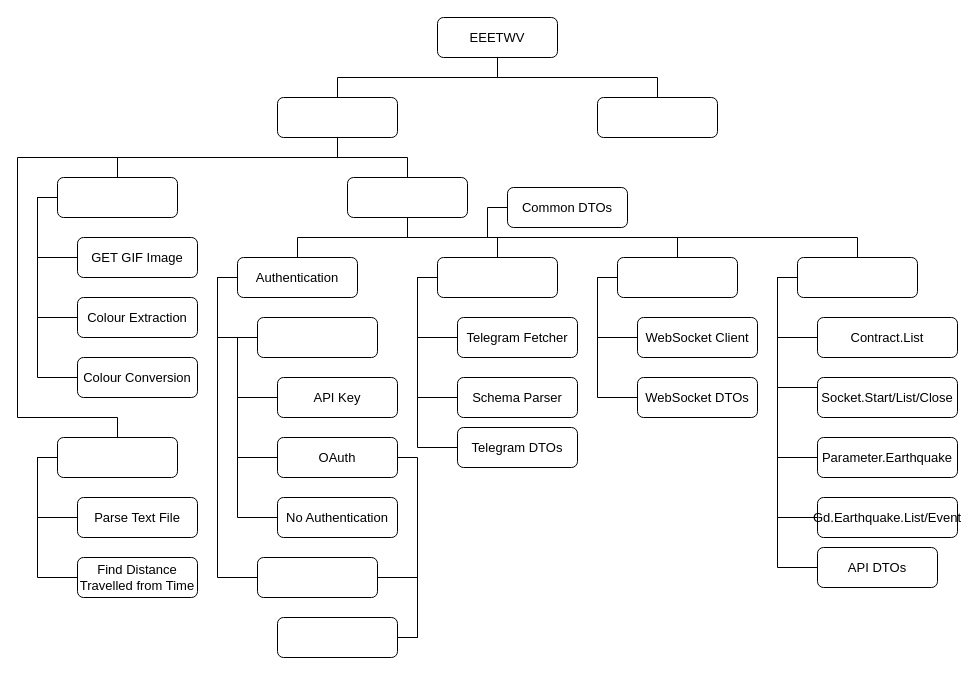
Some shapes in this 978 by 675 pixel diagram are drawn without their labels. The shapes that lost their labels are listed below. From the top down, each one's box as (x1, y1, x2, y2) in pixels, then its label:
(276, 96, 398, 138): Services
(596, 96, 718, 138): GUI
(56, 176, 178, 218): NIED Kyoshin Monitor
(346, 176, 468, 218): DM-D.S.S.
(436, 256, 558, 298): Telegrams
(616, 256, 738, 298): WebSocket
(796, 256, 918, 298): API HTTP Requests
(256, 316, 378, 358): Helper/Manager
(56, 436, 178, 478): Travel Time (Wavefront)
(256, 556, 378, 598): OAuth Helper
(276, 616, 398, 658): Authentication DTOs
